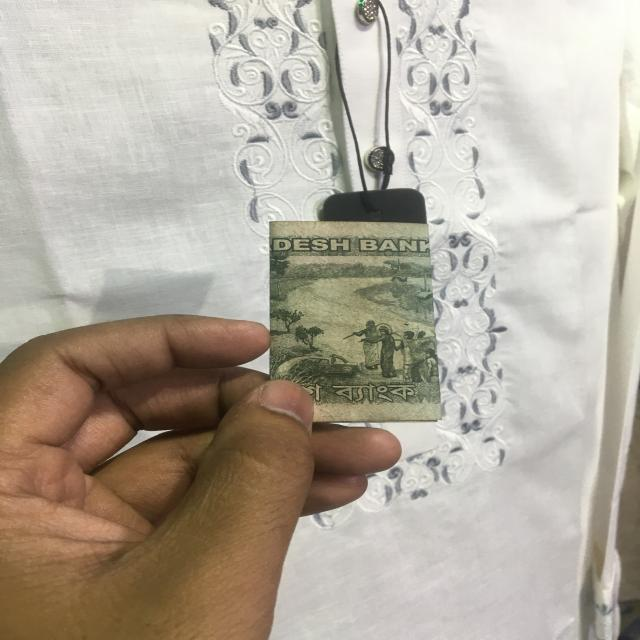Taka: (266, 223, 446, 422)
